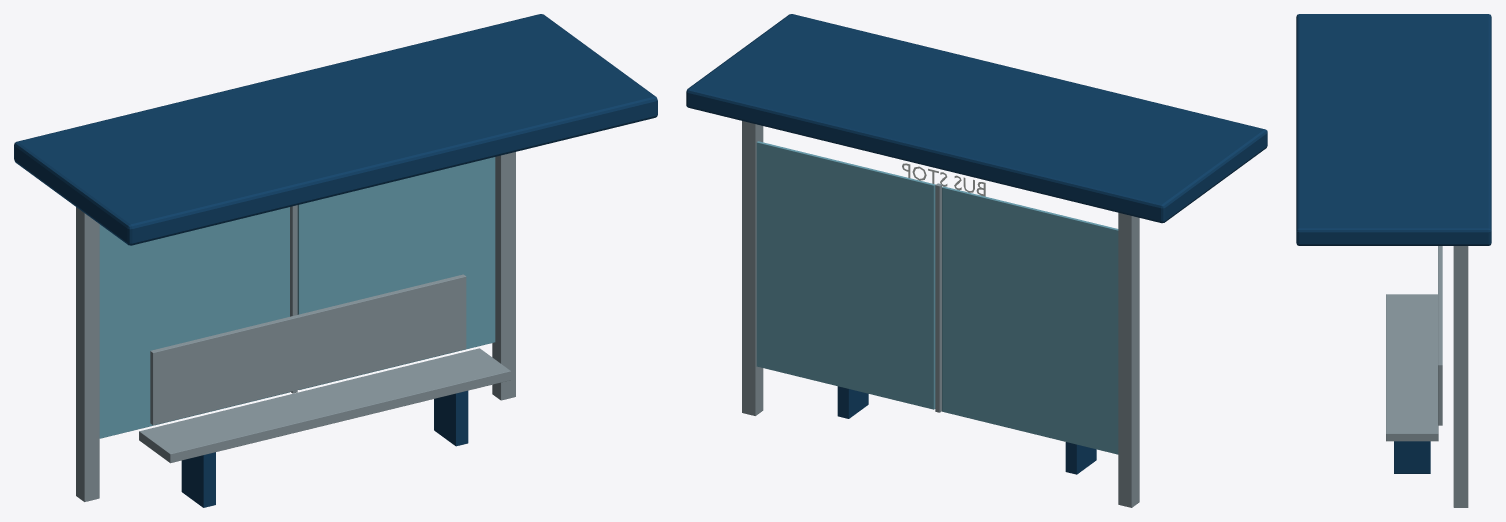
File: edited.glb
3 views of the same model, side by side, from view 1: azimuth 30°, elevation 25°; view 2: azimuth 150°, elevation 25°; view 3: azimuth 270°, elevation 25° (orthographic). The views are drawn at different scales.
Parts seen in each view (by area): view 1: CANOPY, WINDSCREEN_Panel, WINDSCREEN_Panel.001, BENCH_Back, BENCH_Seat, POST, POST.001, BENCH_Leg, BENCH_Leg.001, WINDSCREEN_Frame.001; view 2: CANOPY, WINDSCREEN_Panel.001, WINDSCREEN_Panel, POST, POST.001, WINDSCREEN_Frame.001, BENCH_Leg.001, BENCH_Leg; view 3: CANOPY, BENCH_Seat, POST.001, BENCH_Leg, BENCH_Back.
Boxes of the visible parts, box(x1,y1,x2,y2) form: CANOPY: box(14, 14, 657, 245); WINDSCREEN_Panel: box(99, 207, 289, 438); WINDSCREEN_Panel.001: box(297, 157, 495, 389); BENCH_Back: box(150, 274, 466, 425); BENCH_Seat: box(139, 348, 510, 463); POST: box(76, 207, 99, 501); POST.001: box(492, 152, 515, 400); BENCH_Leg: box(434, 390, 468, 446); BENCH_Leg.001: box(181, 452, 215, 507); WINDSCREEN_Frame.001: box(290, 205, 297, 393); CANOPY: box(686, 14, 1267, 223); WINDSCREEN_Panel.001: box(756, 141, 935, 409); WINDSCREEN_Panel: box(942, 186, 1118, 454); POST: box(1118, 212, 1139, 507); POST.001: box(742, 121, 763, 415); WINDSCREEN_Frame.001: box(935, 183, 942, 412); BENCH_Leg.001: box(1065, 442, 1096, 474); BENCH_Leg: box(837, 386, 868, 418); CANOPY: box(1296, 14, 1491, 245); BENCH_Seat: box(1386, 294, 1438, 441); POST.001: box(1453, 246, 1468, 507); BENCH_Leg: box(1394, 441, 1430, 473); BENCH_Back: box(1438, 246, 1442, 425).
Bounding box in the file's own units: 4.2 × 2.7 × 1.6.
